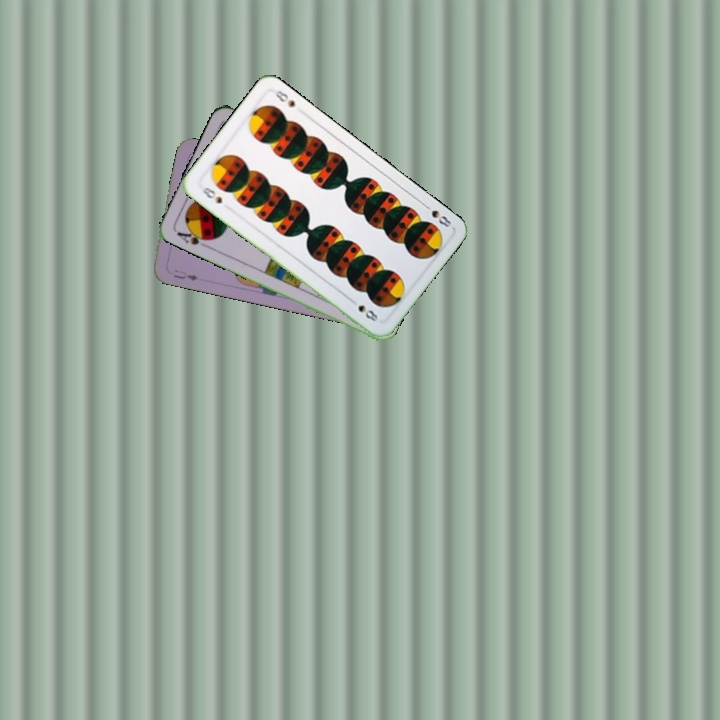EU: (170, 266, 201, 283)
S8: (419, 200, 454, 230), (198, 183, 225, 206)
SA: (172, 225, 213, 248)
